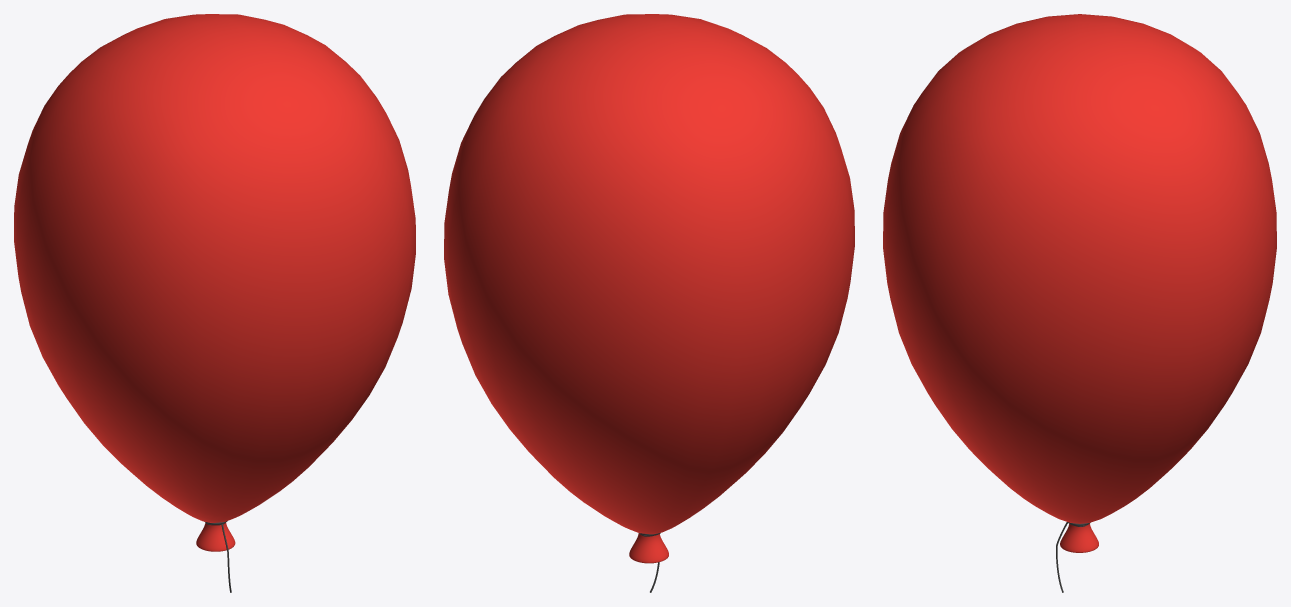
File: balloon.fbx
3 views of the same model, side by side, from view 1: azimuth 30°, elevation 25°; view 2: azimuth 150°, elevation 25°; view 3: azimuth 270°, elevation 25° (orthographic). The views are drawn at different scales.
Visible parts, largest first — view 1: Cube.003; view 2: Cube.003; view 3: Cube.003.
Part boxes in pixels (x1,y1,x2,y2): Cube.003: [14, 14, 415, 592]; Cube.003: [444, 14, 854, 592]; Cube.003: [883, 14, 1276, 592].
Bounding box in the file's own units: 461 × 716 × 461.
